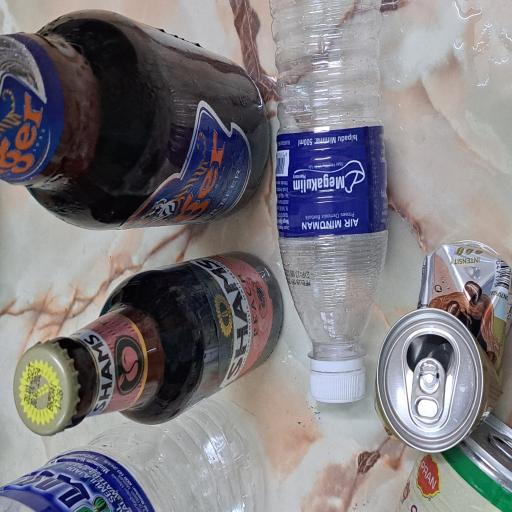glass bottle: (209, 0, 377, 365), (58, 15, 198, 382)
plastic bottle: (118, 363, 384, 512), (0, 0, 90, 355)
plastic bottle cap: (83, 410, 115, 490)
